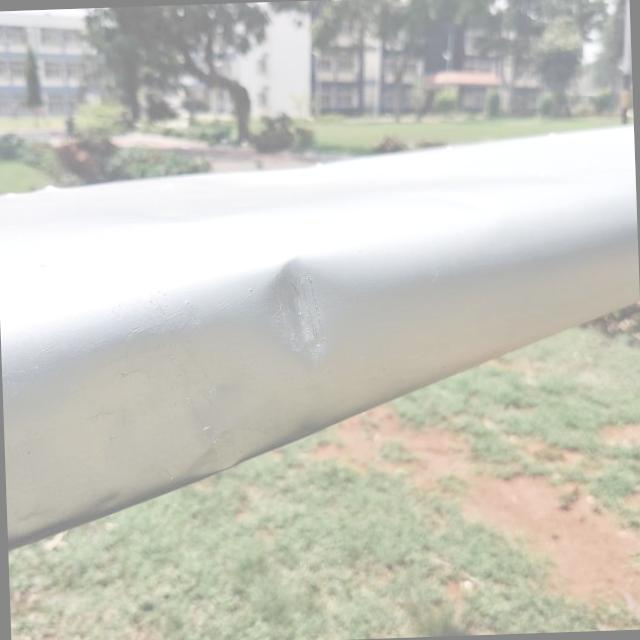dent: (238, 244, 364, 396)
